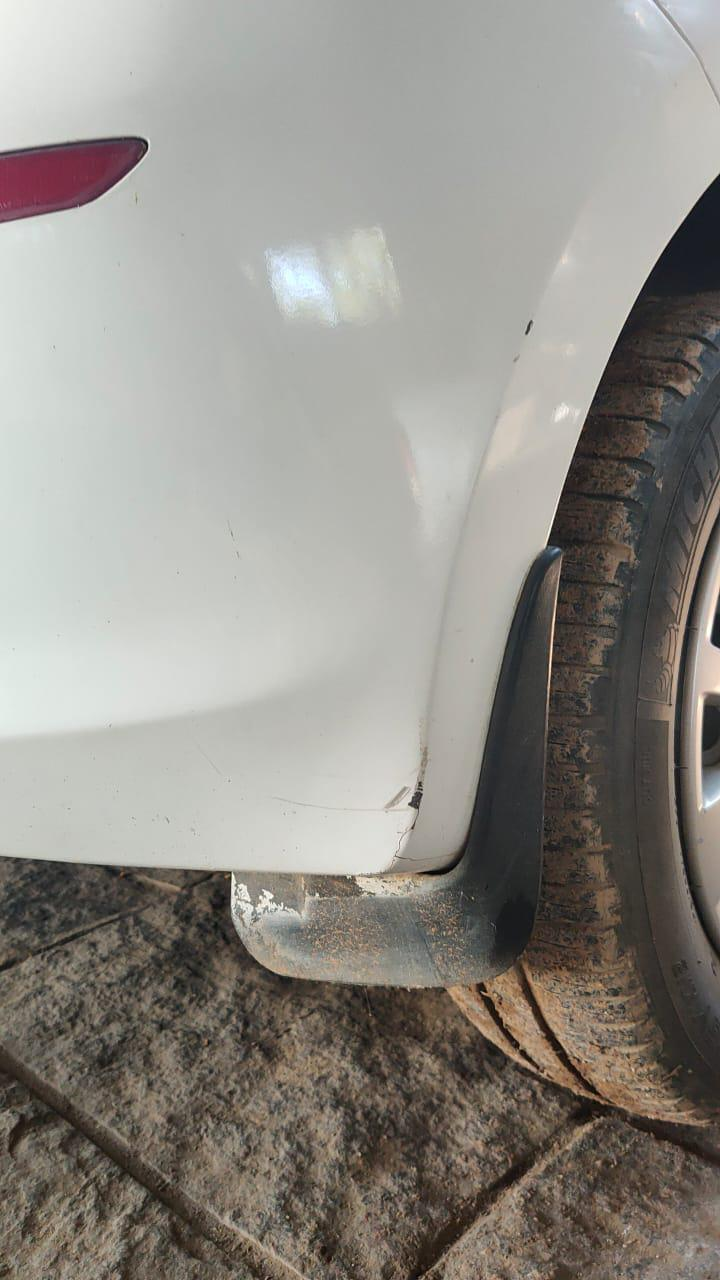rear-bumper-dent: (1, 1, 681, 995)
